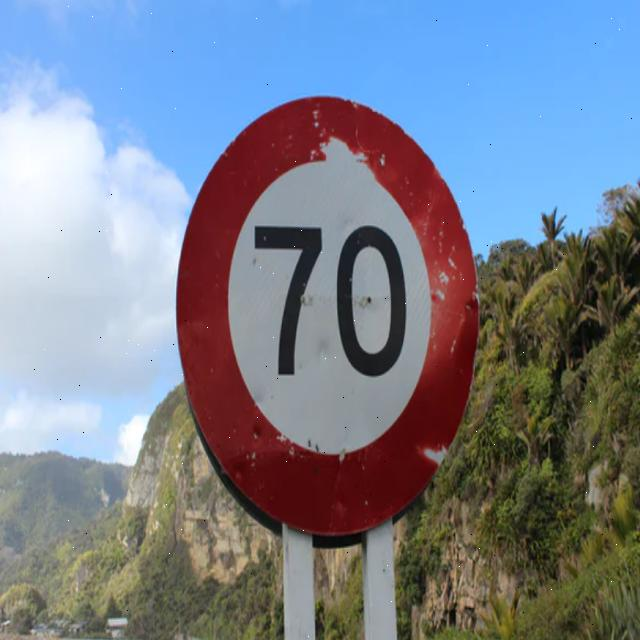speed limit 70: (176, 92, 481, 535)
